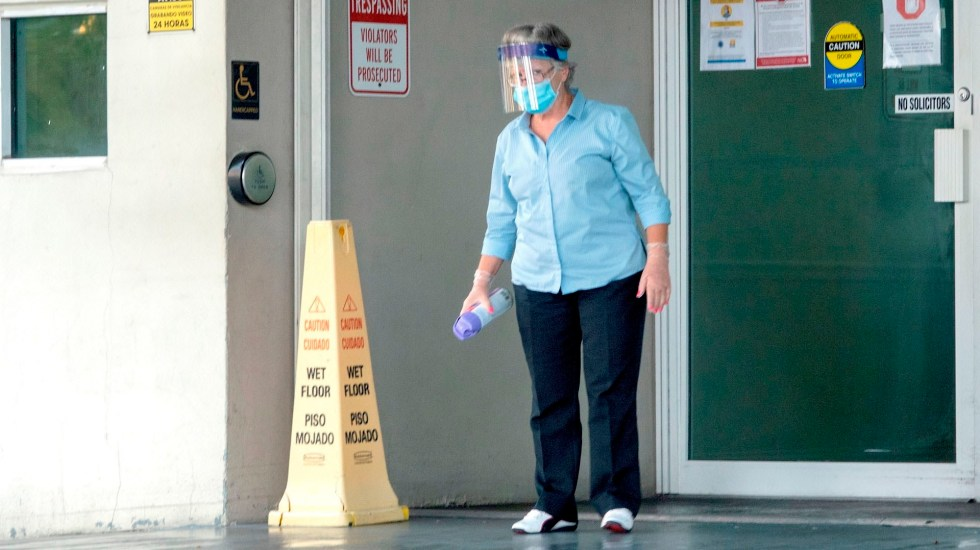with_mask: (491, 30, 582, 120)
